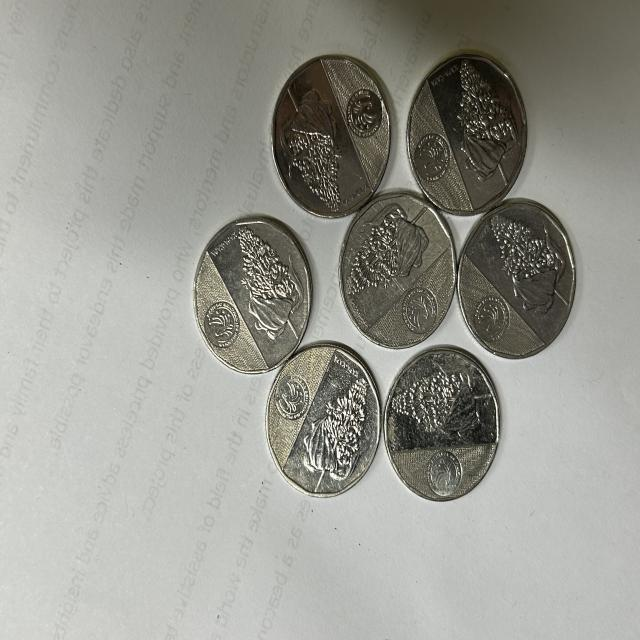10_New_Back: (233, 222, 308, 358), (390, 358, 493, 451), (443, 59, 515, 187), (276, 87, 350, 211), (492, 206, 566, 326), (345, 202, 426, 295), (322, 358, 372, 484)
